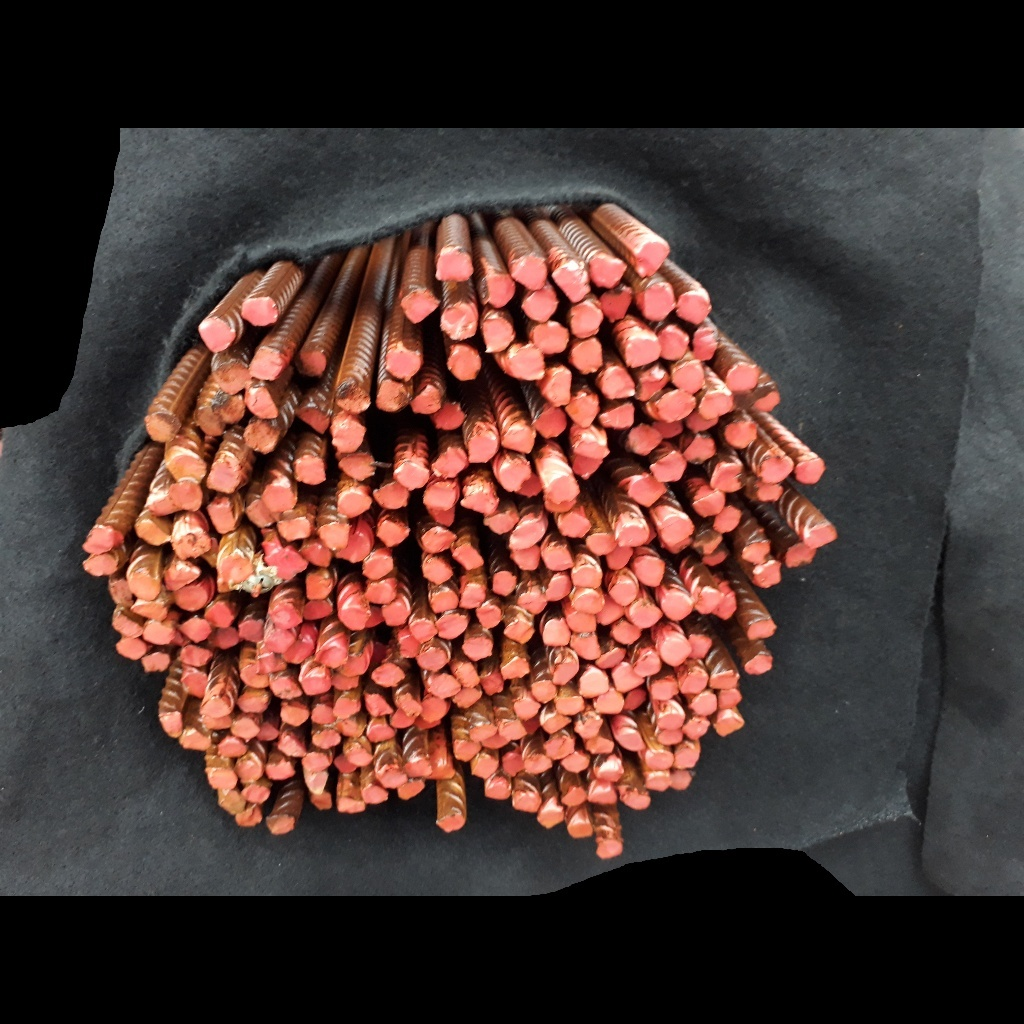dipstick: (260, 533, 308, 580), (332, 520, 376, 562), (171, 515, 212, 559), (553, 259, 592, 303), (565, 297, 603, 341), (194, 316, 236, 354), (595, 361, 634, 401), (443, 344, 483, 383), (506, 342, 545, 381), (206, 493, 244, 533), (518, 287, 560, 323), (439, 303, 480, 339), (213, 355, 249, 395), (673, 289, 714, 324), (163, 556, 204, 591), (219, 554, 256, 592), (587, 252, 626, 288), (597, 284, 633, 323), (330, 413, 366, 452), (401, 288, 441, 323), (512, 252, 547, 292), (722, 360, 762, 395), (659, 515, 694, 555), (541, 366, 574, 408), (540, 472, 583, 504), (639, 282, 676, 319), (632, 241, 670, 277), (567, 388, 602, 427), (166, 450, 208, 482), (478, 273, 516, 308), (669, 358, 707, 393), (247, 346, 285, 381), (241, 419, 279, 454), (481, 313, 515, 352), (634, 365, 668, 404), (77, 524, 126, 551), (605, 567, 638, 607), (434, 249, 475, 281), (385, 346, 422, 381), (627, 422, 664, 457), (134, 511, 171, 546), (655, 389, 698, 419), (170, 579, 210, 611), (239, 296, 280, 327), (336, 451, 377, 482), (462, 479, 497, 515), (630, 473, 667, 507), (622, 334, 660, 367), (466, 426, 499, 464), (207, 462, 245, 495), (531, 323, 572, 353), (657, 326, 692, 361), (494, 458, 529, 493), (431, 444, 467, 478), (393, 459, 430, 492), (577, 662, 610, 699), (571, 338, 603, 376), (313, 519, 351, 551), (334, 383, 373, 414), (245, 384, 281, 417), (509, 512, 545, 545), (295, 402, 332, 434), (144, 410, 182, 441), (291, 455, 329, 486), (707, 462, 746, 492), (79, 550, 124, 576), (262, 481, 298, 513), (598, 401, 636, 431), (650, 451, 688, 481), (695, 390, 734, 419), (265, 601, 304, 630), (631, 555, 665, 588), (376, 380, 411, 412), (432, 400, 467, 432), (572, 553, 604, 588), (298, 538, 335, 568), (421, 524, 458, 554), (335, 489, 373, 518), (692, 485, 726, 517), (502, 424, 537, 455), (658, 636, 693, 667), (658, 592, 694, 622), (374, 481, 411, 510), (280, 634, 317, 663), (410, 383, 442, 416), (212, 392, 245, 424), (683, 434, 717, 465), (420, 554, 454, 585), (422, 479, 457, 509), (540, 541, 575, 571), (376, 518, 412, 547), (693, 325, 721, 362), (277, 515, 314, 543), (628, 600, 665, 628), (721, 420, 759, 447), (193, 406, 226, 437), (169, 480, 203, 510), (108, 609, 143, 638), (569, 586, 606, 613), (129, 570, 161, 601), (362, 550, 394, 581), (381, 594, 411, 627), (393, 625, 423, 658), (612, 662, 645, 692), (555, 511, 590, 539), (536, 405, 563, 441), (784, 542, 820, 569), (370, 662, 406, 689), (246, 498, 277, 529), (543, 572, 574, 603), (654, 701, 686, 731), (751, 559, 784, 588), (304, 571, 337, 600), (435, 611, 468, 640), (712, 709, 746, 737), (758, 457, 793, 484), (363, 577, 398, 604), (314, 641, 349, 668), (415, 646, 450, 673), (477, 666, 507, 697), (570, 452, 603, 480), (300, 669, 333, 697), (452, 542, 485, 570), (293, 351, 327, 378), (361, 689, 395, 716), (572, 437, 610, 461), (143, 493, 186, 514), (235, 753, 264, 784), (796, 458, 828, 486), (570, 632, 602, 660), (503, 617, 535, 645), (484, 510, 521, 534), (613, 726, 647, 752), (805, 523, 840, 548), (596, 595, 625, 625), (683, 409, 719, 433), (337, 605, 370, 631), (538, 797, 564, 830), (647, 675, 680, 701), (610, 619, 643, 645), (427, 587, 461, 612), (264, 625, 293, 654), (475, 600, 504, 629), (566, 810, 595, 839), (542, 617, 571, 646), (750, 391, 785, 415), (712, 505, 742, 533), (105, 577, 135, 605), (238, 662, 269, 689), (593, 754, 624, 781), (694, 585, 721, 616), (179, 616, 211, 642), (236, 618, 268, 644), (510, 789, 542, 815), (753, 482, 786, 507), (427, 673, 460, 698), (619, 787, 652, 812), (131, 599, 168, 621), (470, 751, 498, 780), (207, 764, 237, 791), (206, 599, 233, 629), (420, 694, 450, 721), (688, 689, 718, 716), (500, 655, 531, 681), (679, 669, 710, 695), (742, 541, 774, 566), (144, 619, 176, 644), (337, 651, 369, 676), (544, 735, 576, 760), (301, 597, 334, 621), (461, 637, 494, 661), (692, 529, 725, 553), (459, 580, 487, 608), (453, 662, 482, 689), (589, 779, 618, 806), (587, 532, 621, 555), (510, 544, 541, 569), (114, 637, 149, 659), (215, 789, 247, 813), (265, 757, 298, 780), (256, 651, 289, 674), (521, 752, 554, 775), (396, 691, 424, 718), (182, 671, 211, 697), (234, 802, 264, 827), (452, 737, 482, 762), (594, 689, 624, 714), (681, 715, 711, 740), (236, 691, 270, 713), (746, 617, 780, 639), (620, 523, 651, 547), (742, 651, 773, 675), (199, 694, 231, 717), (270, 677, 302, 700), (634, 650, 661, 677), (490, 569, 517, 596), (277, 733, 306, 758), (345, 742, 374, 767), (687, 631, 712, 660), (181, 643, 211, 667), (408, 619, 438, 643), (278, 704, 309, 727), (540, 711, 571, 734), (574, 715, 605, 738), (500, 751, 526, 778), (531, 678, 558, 704), (607, 543, 634, 569), (514, 696, 542, 721), (517, 589, 546, 613), (240, 781, 270, 804), (596, 645, 626, 668), (651, 417, 682, 439), (140, 651, 171, 673), (396, 779, 427, 801), (498, 718, 529, 740), (376, 769, 410, 789), (300, 751, 332, 772), (310, 729, 342, 750), (483, 776, 511, 800), (551, 662, 579, 686), (672, 746, 700, 770), (211, 630, 246, 649), (716, 592, 738, 622), (711, 669, 742, 690), (179, 725, 205, 750), (302, 769, 328, 794), (158, 711, 181, 739), (233, 717, 261, 740), (405, 756, 433, 779), (567, 610, 596, 632), (561, 752, 591, 773), (645, 750, 675, 771), (643, 772, 673, 793), (311, 702, 337, 726), (216, 738, 247, 758), (596, 839, 624, 861), (436, 813, 466, 833), (554, 695, 584, 715), (333, 696, 359, 719), (388, 708, 416, 729), (265, 814, 294, 834), (361, 784, 390, 804), (622, 688, 646, 712), (331, 672, 361, 691), (583, 737, 616, 754), (367, 725, 398, 743), (562, 785, 587, 807), (338, 796, 366, 815), (427, 507, 455, 526), (470, 724, 498, 743), (671, 769, 693, 792), (334, 752, 358, 773), (432, 760, 456, 781), (718, 689, 743, 708), (258, 721, 281, 740), (655, 730, 685, 744), (311, 791, 333, 810), (413, 718, 442, 732), (700, 552, 727, 566)
